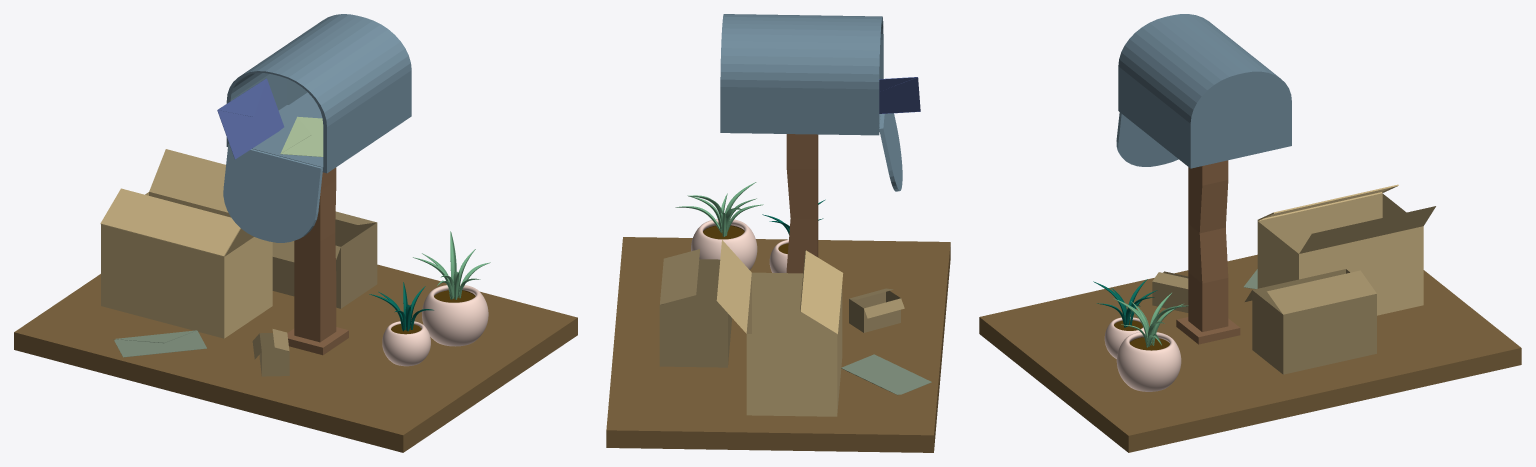
File: MailRoomV1.glb
The picture shows the model from 3 angles, left to right: view 1: azimuth 30°, elevation 25°; view 2: azimuth 150°, elevation 25°; view 3: azimuth 270°, elevation 25°; orthographic projection. The views are drawn at different scales.
Visible parts, largest first — view 1: floor2, MailBox, box1, box2, plant1, mail2, plant2, mail1, box3, mail3; view 2: floor2, MailBox, box1, box2, plant1, box3, mail1, mail2, plant2; view 3: floor2, MailBox, box1, box2, plant1, plant2, box3.
Boxes of the visible parts, left/top/right/bottom form: floor2: left=14, top=264, right=577, bottom=452; MailBox: left=223, top=14, right=411, bottom=355; box1: left=100, top=149, right=272, bottom=338; box2: left=272, top=211, right=377, bottom=308; plant1: left=413, top=231, right=490, bottom=346; mail2: left=217, top=78, right=284, bottom=159; plant2: left=369, top=282, right=433, bottom=366; mail1: left=113, top=330, right=206, bottom=357; box3: left=252, top=329, right=289, bottom=376; mail3: left=280, top=116, right=323, bottom=156; floor2: left=606, top=237, right=950, bottom=452; MailBox: left=720, top=14, right=902, bottom=273; box1: left=716, top=240, right=843, bottom=416; box2: left=659, top=249, right=731, bottom=367; plant1: left=675, top=182, right=763, bottom=269; box3: left=849, top=288, right=904, bottom=332; mail1: left=841, top=354, right=931, bottom=395; mail2: left=879, top=77, right=920, bottom=114; plant2: left=762, top=199, right=825, bottom=272; floor2: left=979, top=254, right=1521, bottom=452; MailBox: left=1116, top=14, right=1291, bottom=344; box1: left=1257, top=184, right=1435, bottom=315; box2: left=1245, top=269, right=1376, bottom=374; plant1: left=1113, top=293, right=1188, bottom=391; plant2: left=1093, top=279, right=1157, bottom=358; box3: left=1152, top=271, right=1188, bottom=312.
Bounding box in the file's own units: 5.91 × 4.06 × 6.55.
